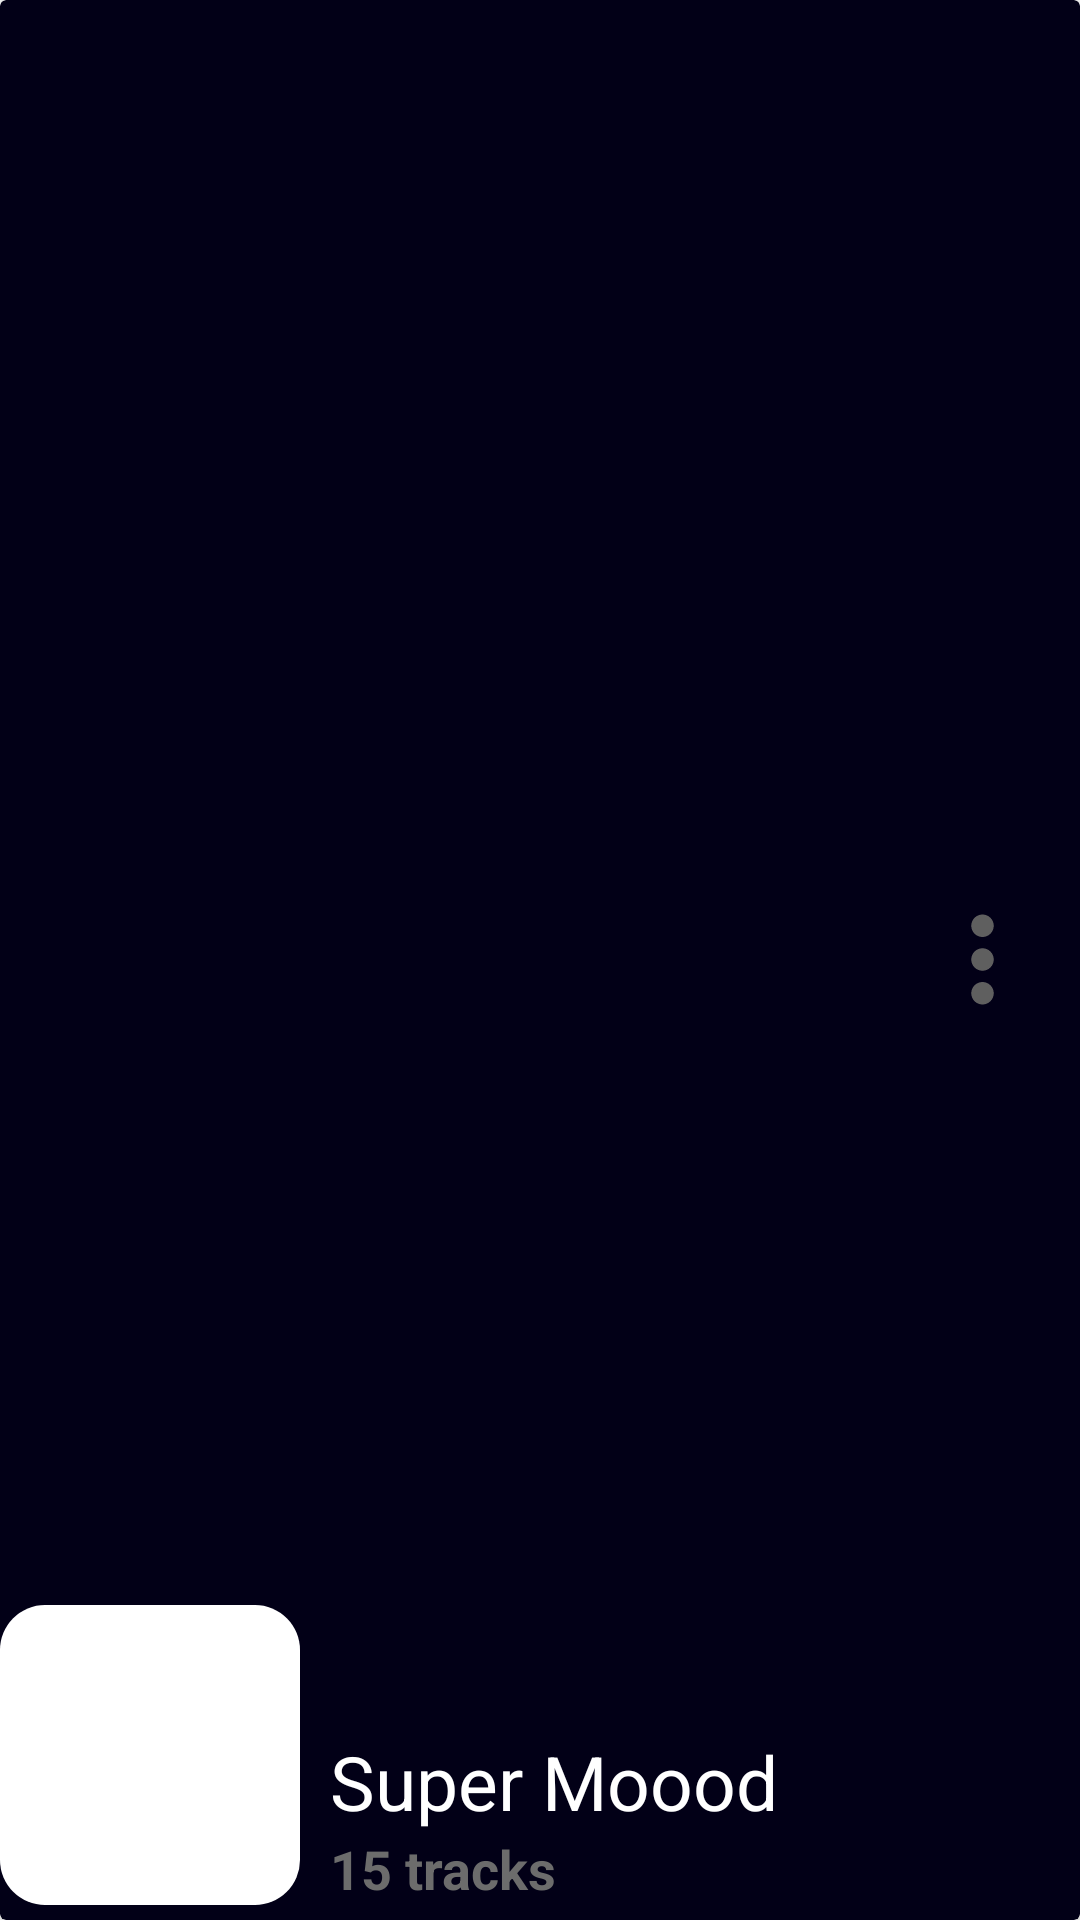

Where to tap for icons on this 1080 x 1920 app screen, as (x=x, y=y):
options: (x=982, y=959)
